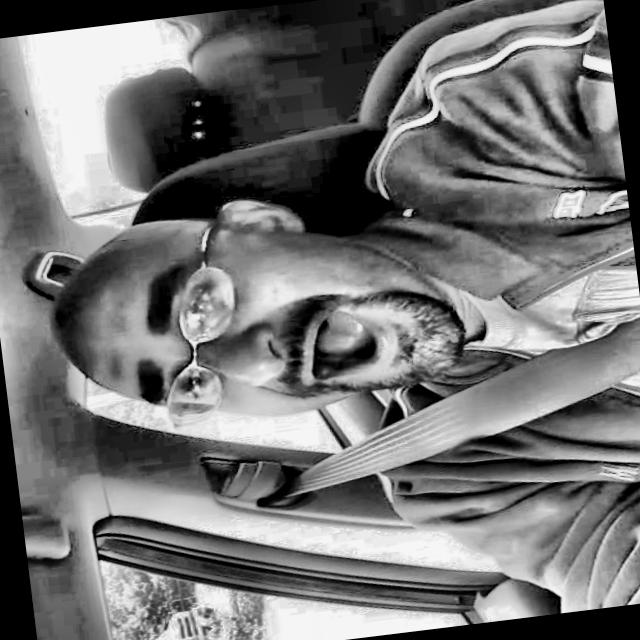open_eyes: (175, 275, 230, 339), (167, 365, 225, 403)
open_mouth: (284, 299, 418, 396)
